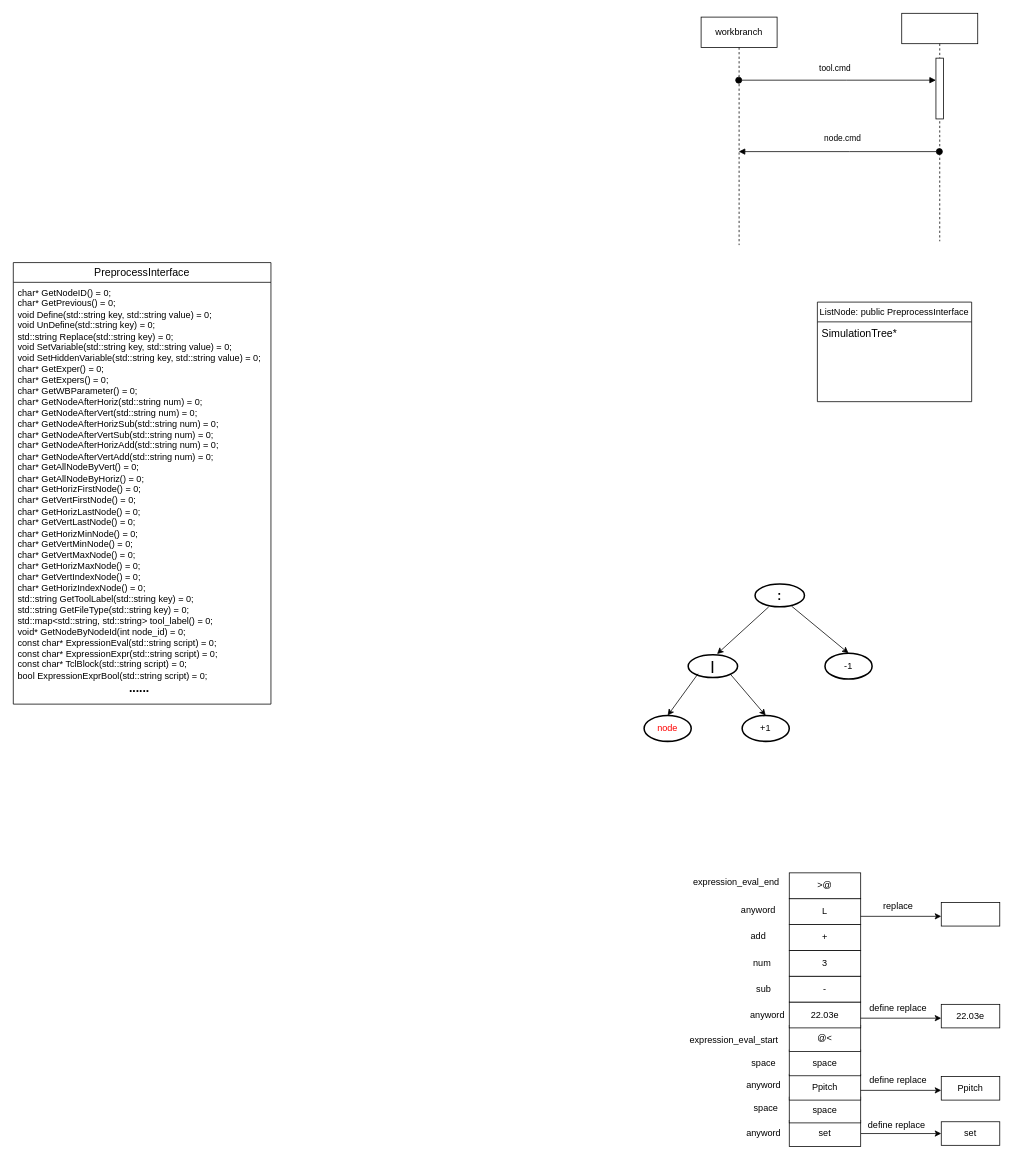
This 1013x1160 diagram has some shape labels left out. The shapes that lost their labels are listed below. From the top down, each one's centre as x and y in pixels, then its label:
At (x=939, y=127): "preprocessor".
At (x=970, y=914): "nMOS".
